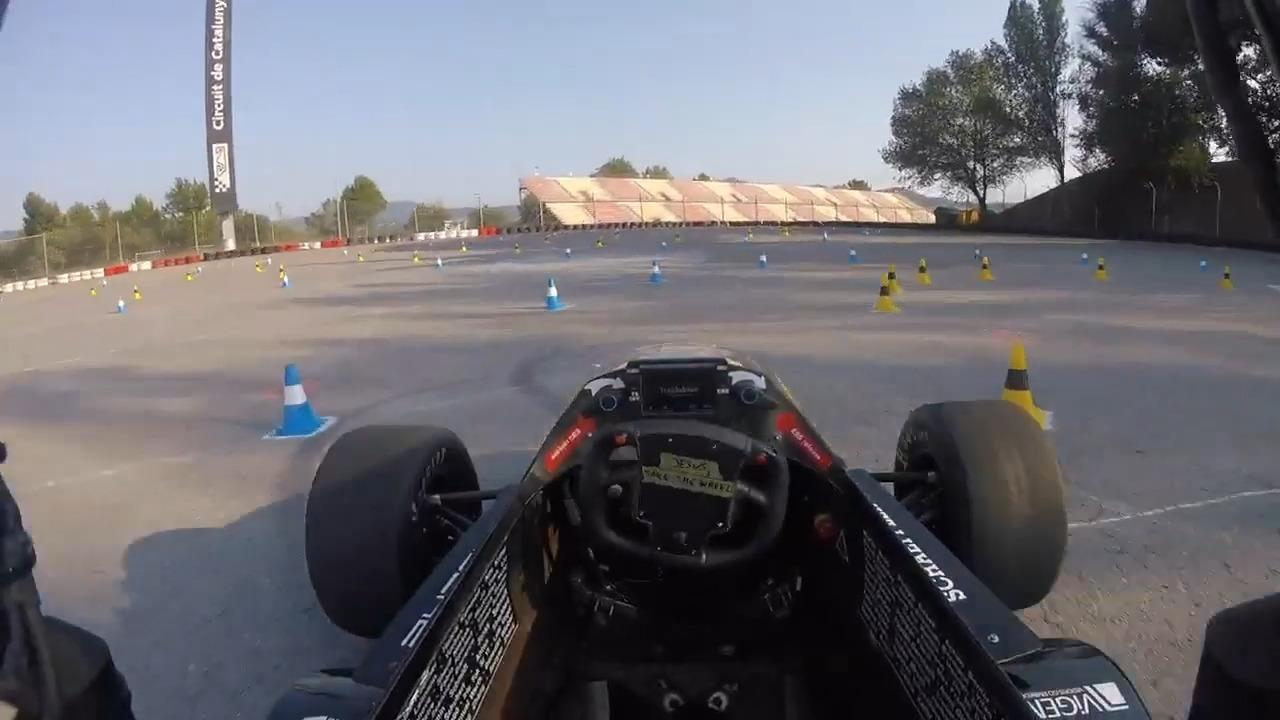blue_cone: (277, 363, 327, 438), (544, 279, 564, 309), (647, 261, 662, 282), (115, 293, 127, 314), (846, 244, 858, 264), (433, 254, 444, 273), (760, 249, 769, 270), (282, 271, 289, 290)
yellow_cone: (993, 347, 1044, 427), (1215, 263, 1238, 292), (875, 278, 892, 313), (884, 265, 902, 293), (1093, 256, 1110, 281), (918, 258, 931, 285), (978, 256, 992, 279), (132, 284, 142, 302), (88, 284, 97, 298)
